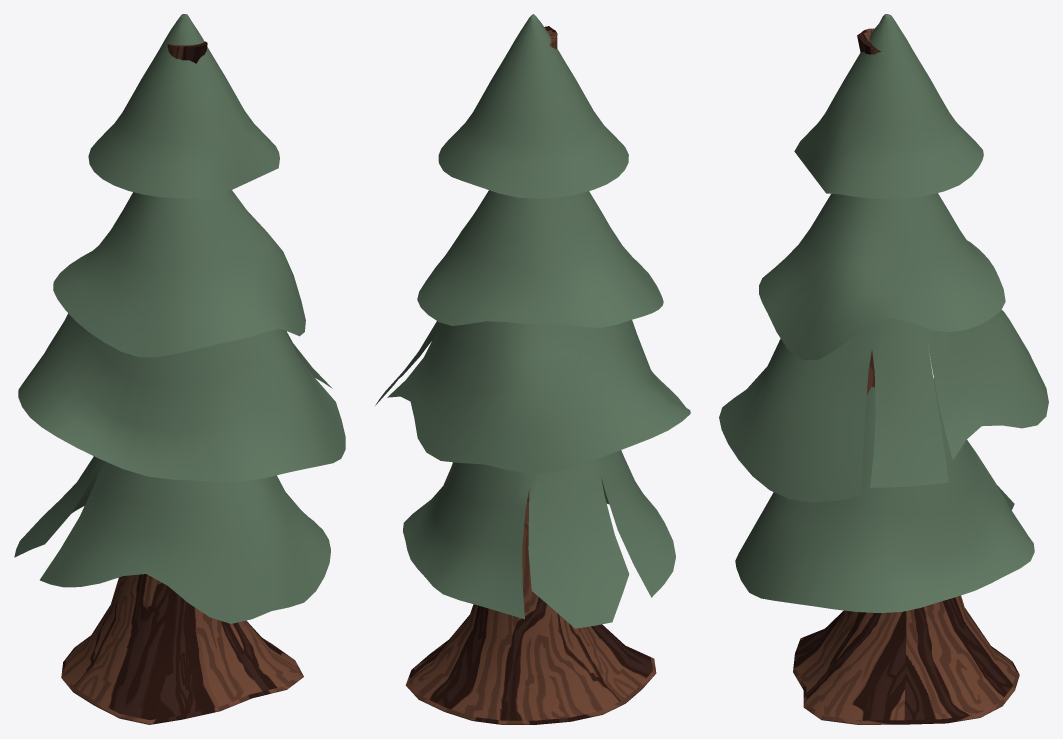
Rendered from Tree 1.fbx.
The picture shows the model from 3 angles, left to right: view 1: azimuth 30°, elevation 25°; view 2: azimuth 150°, elevation 25°; view 3: azimuth 270°, elevation 25°; orthographic projection.
Visible parts, largest first — view 1: Pines_1; view 2: Pines_1; view 3: Pines_1.
Boxes of the visible parts, left/top/right/bottom form: Pines_1: left=14, top=14, right=345, bottom=724; Pines_1: left=375, top=14, right=690, bottom=724; Pines_1: left=719, top=14, right=1048, bottom=724.
Size of the model in its own units: 7.78 by 17.15 by 7.72.
